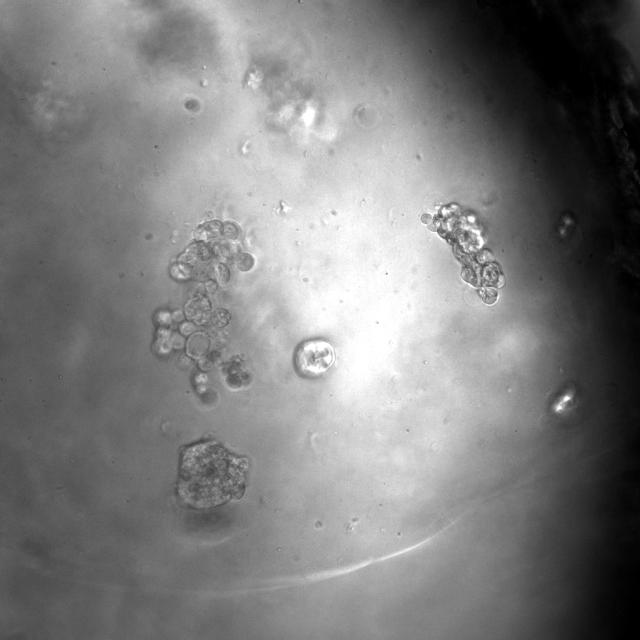organoid: (152, 210, 257, 409), (422, 202, 504, 304), (176, 436, 249, 510), (292, 338, 336, 378)
